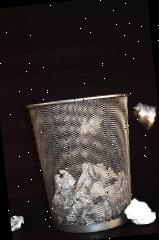paper: (48, 158, 132, 227), (123, 196, 157, 226), (132, 100, 158, 132), (78, 114, 104, 134), (10, 214, 25, 230)
